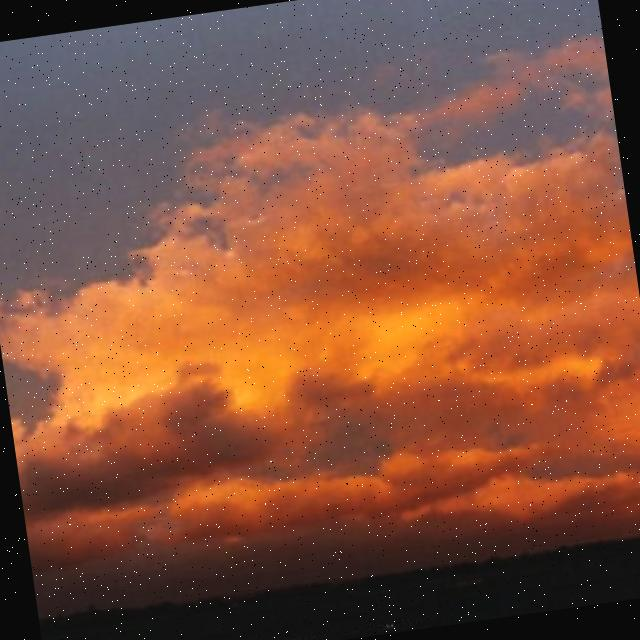As: (1, 1, 640, 580)
